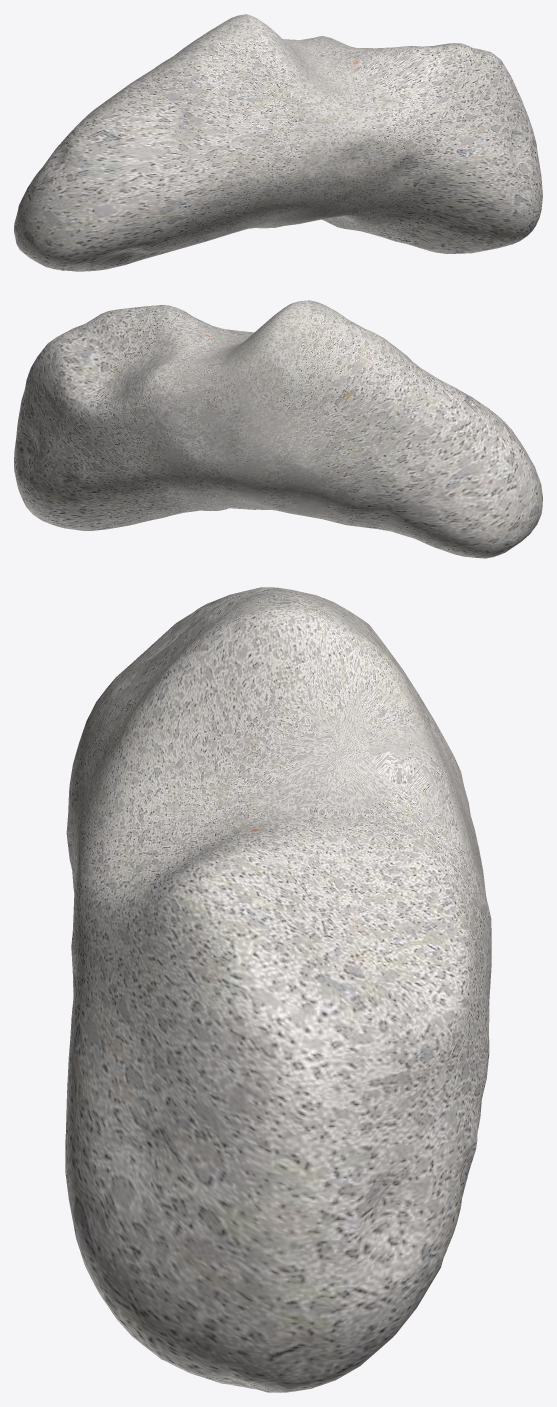
File: eros.gltf
3 views of the same model, one above another, from view 1: azimuth 30°, elevation 25°; view 2: azimuth 150°, elevation 25°; view 3: azimuth 270°, elevation 25° (orthographic). The views are drawn at different scales.
Parts seen in each view (by area): view 1: eros; view 2: eros; view 3: eros.
Boxes of the visible parts, box(x1,y1,x2,y2) form: eros: box(14, 14, 542, 271); eros: box(14, 300, 542, 558); eros: box(65, 587, 491, 1392).
Bounding box in the file's own units: 32.52 × 16.76 × 11.81.
1 material, 1 textured.
